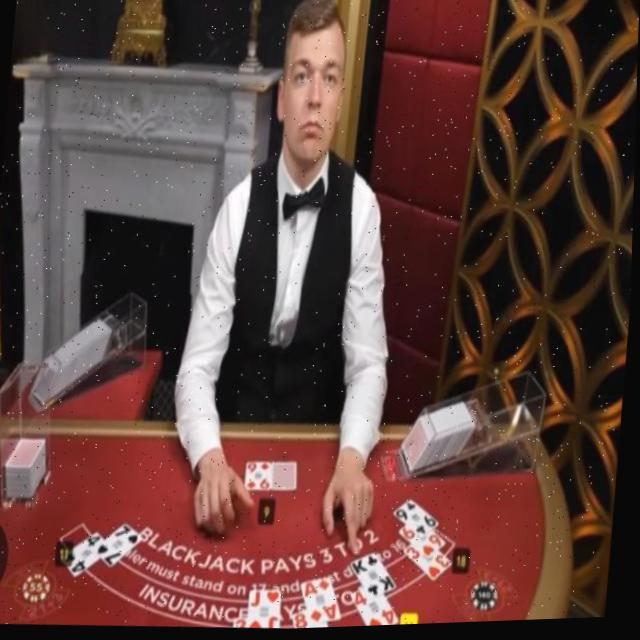Card-3: (407, 548, 455, 582), (237, 619, 251, 629)
Card-4: (354, 589, 403, 629), (66, 532, 108, 578)
Card-6: (402, 529, 448, 560)
Card-7: (97, 524, 144, 568)
Card-8: (296, 612, 332, 630)
Card-9: (397, 502, 443, 541), (247, 463, 276, 493)
Card-A: (304, 581, 345, 627)
Card-J: (251, 593, 284, 629)
Card-K: (354, 555, 401, 599)
